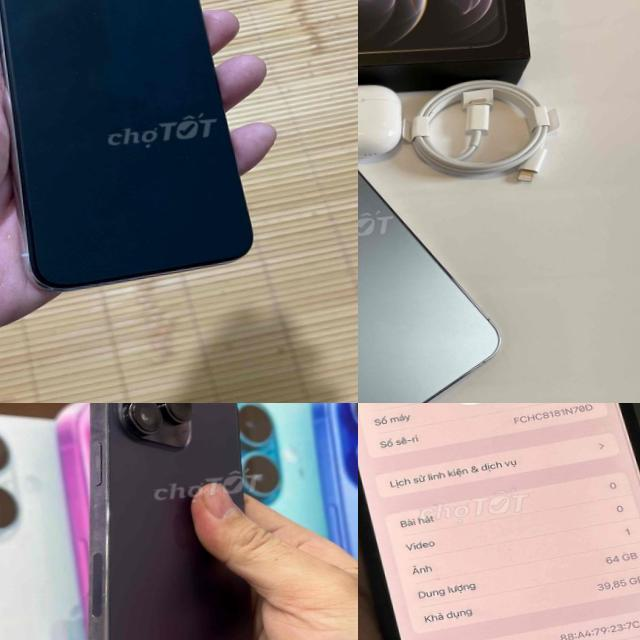gen_11: (358, 403, 640, 640)
gen_12_13: (358, 89, 511, 403)
gen_14: (51, 403, 301, 640)
gen_x_xs: (0, 0, 251, 290)
scratch: (72, 472, 126, 558), (67, 580, 127, 640)
